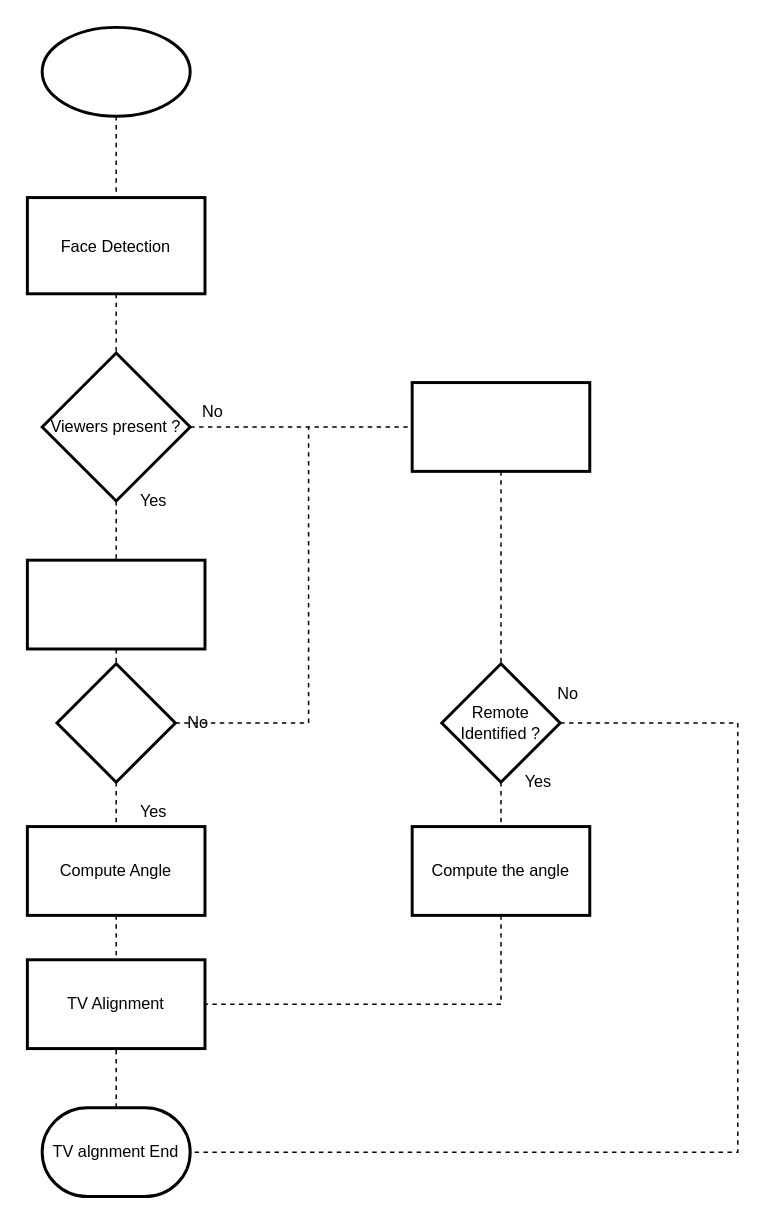
This 765x1222 diagram has some shape labels left out. The box of each missing label's shape, as (x1, y1, x2, y2) in pixels:
Active Viewers present ?: (55, 662, 176, 783)
Face position Detection: (25, 558, 206, 650)
Remote position identification: (410, 380, 591, 472)
TV algnment Begin: (40, 25, 191, 117)
